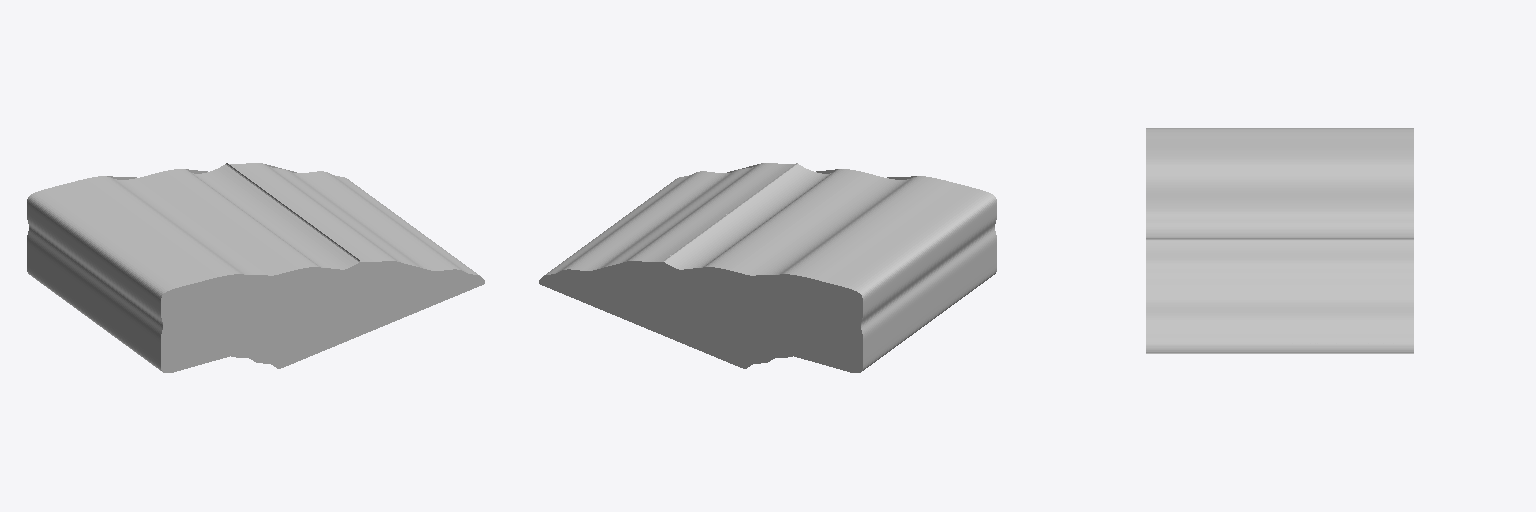
3 renders of one model, left to right at view 1: azimuth 30°, elevation 25°; view 2: azimuth 150°, elevation 25°; view 3: azimuth 270°, elevation 25°, orthographic.
Parts seen in each view (by area): view 1: 平面; view 2: 平面; view 3: 平面.
Boxes of the visible parts, <box> form: 平面: <box>27,163,484,372</box>; 平面: <box>539,163,996,372</box>; 平面: <box>1146,128,1413,353</box>.
Bounding box in the file's own units: 0.2794 × 0.0879 × 0.2.